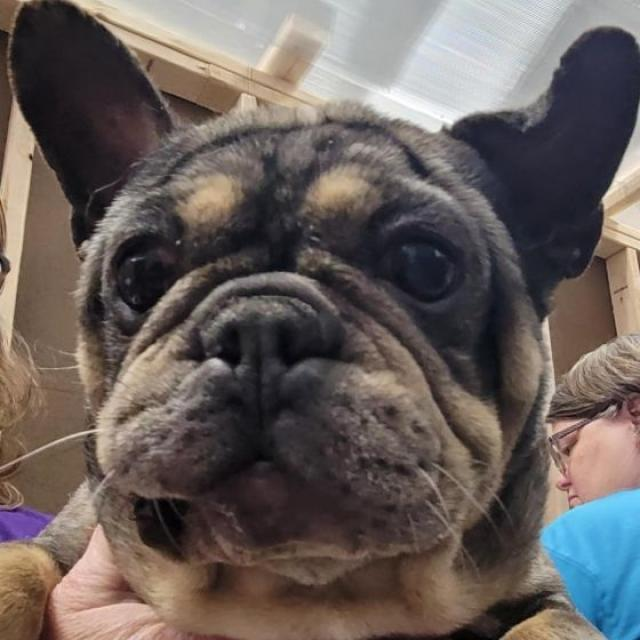french_bulldog_dog: (7, 1, 640, 582)
